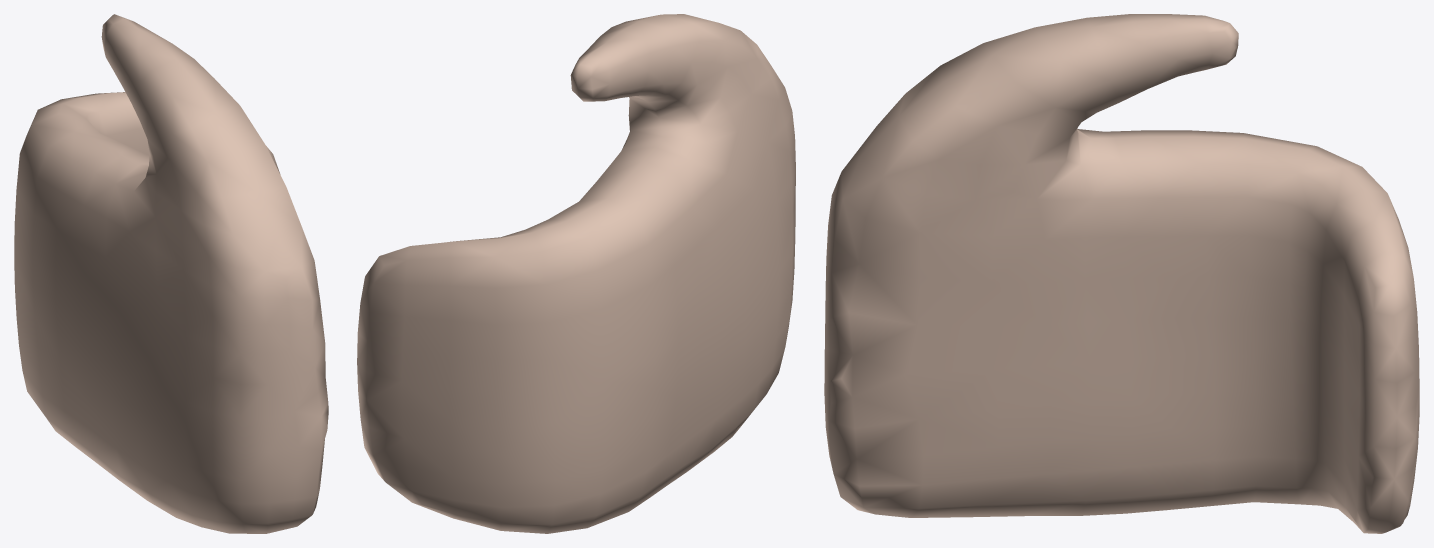
File: L Hand.fbx
3 renders of one model, left to right at view 1: azimuth 30°, elevation 25°; view 2: azimuth 150°, elevation 25°; view 3: azimuth 270°, elevation 25°, orthographic. The views are drawn at different scales.
Parts seen in each view (by area): view 1: L Hand; view 2: L Hand; view 3: L Hand.
Part boxes in pixels (left/top/right/bottom): L Hand: left=14, top=14, right=328, bottom=533; L Hand: left=357, top=14, right=795, bottom=533; L Hand: left=824, top=14, right=1419, bottom=533.
Size of the model in its own units: 5.58 by 10.4 by 11.24.
